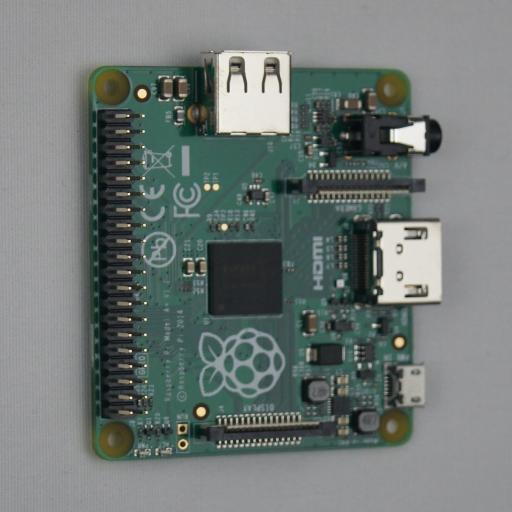Raspberry Pi A-: (77, 51, 442, 461)
